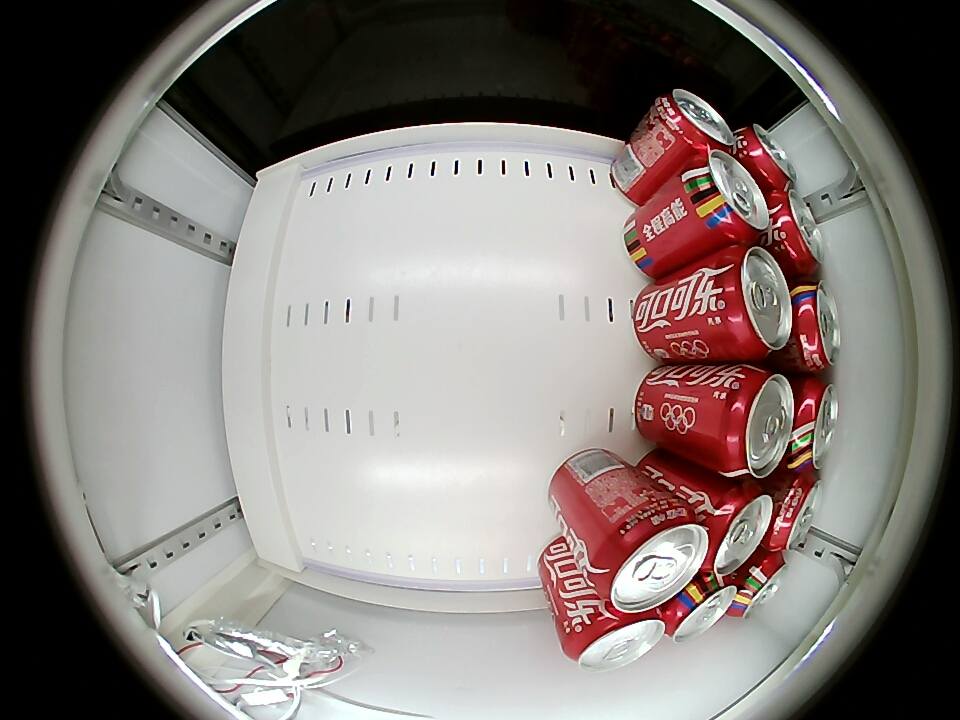kele: (589, 499, 708, 614), (711, 244, 792, 362), (715, 367, 794, 479), (685, 148, 769, 244), (563, 607, 666, 672), (701, 483, 772, 577), (654, 89, 733, 154), (663, 577, 737, 643), (788, 379, 839, 471), (790, 282, 842, 371), (770, 190, 825, 273), (766, 472, 822, 552), (740, 123, 796, 191), (732, 553, 788, 619)
